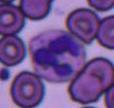N: (31, 30, 86, 82)
